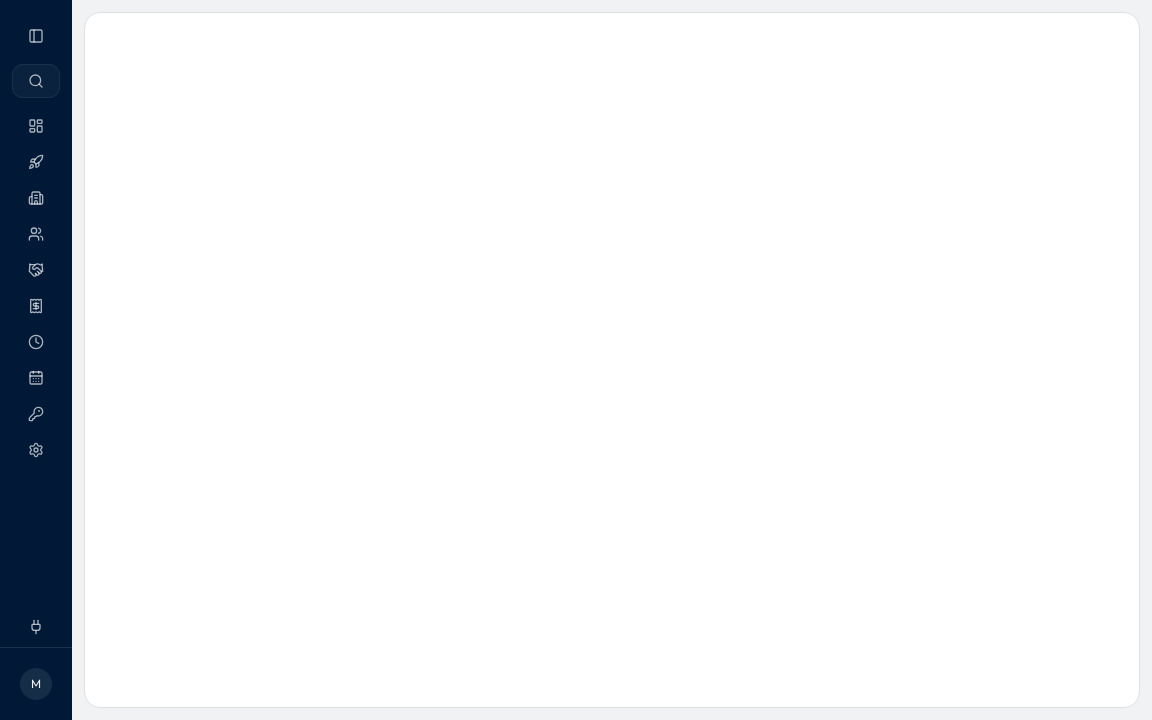
Test: AppShell › is a rail below lg, whose expanded form is an overlay you can dismiss
Check: the button "Vendite" is not shown
Check: the 3rd link named "Clienti" is shown, box [12,182,60,214]
Click the button named "Espandi il menu" at coordinates (36, 36), box [20,20,52,52]
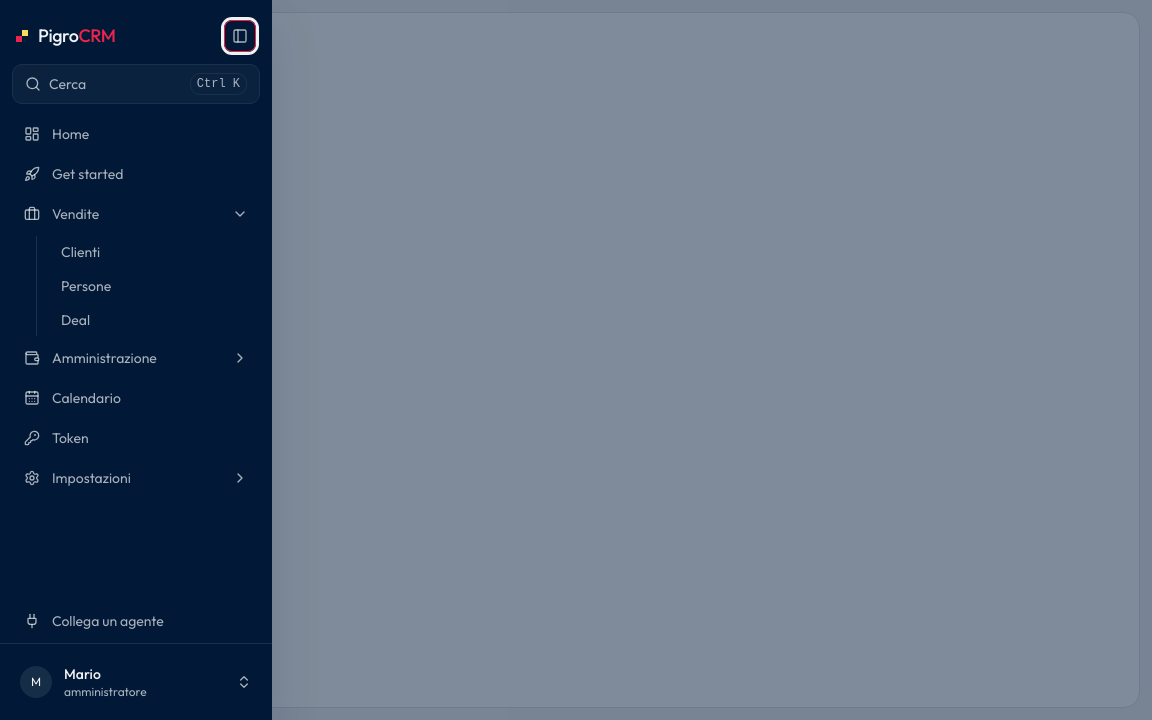
Check: the button "Vendite" is shown, box [12,196,260,232]
Click the button named "Chiudi il menu" at coordinates (576, 360), box [0,0,1151,719]
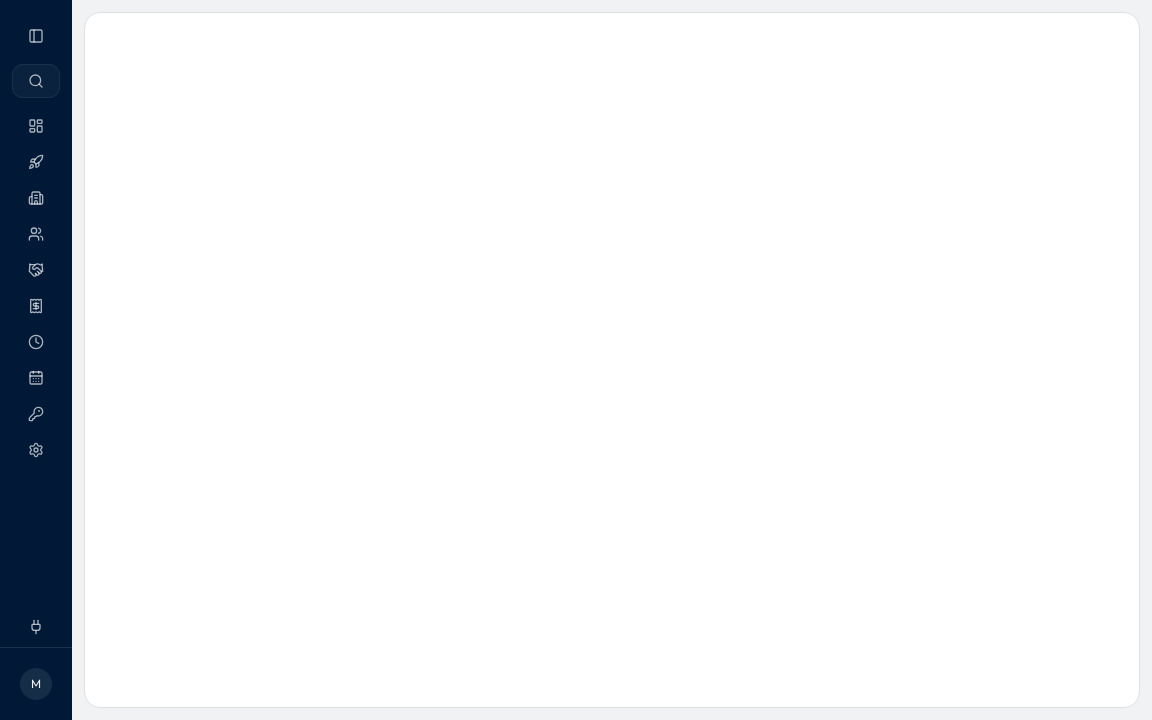
Check: the button "Vendite" is gone
